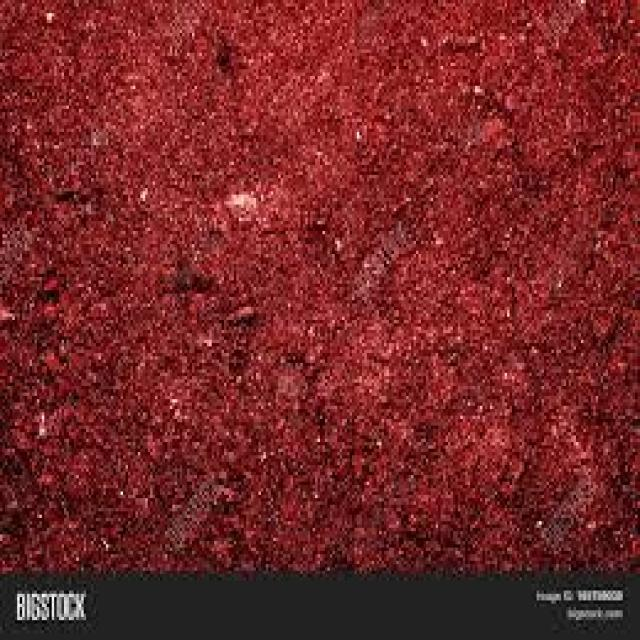Red Soil: (39, 43, 604, 542)
